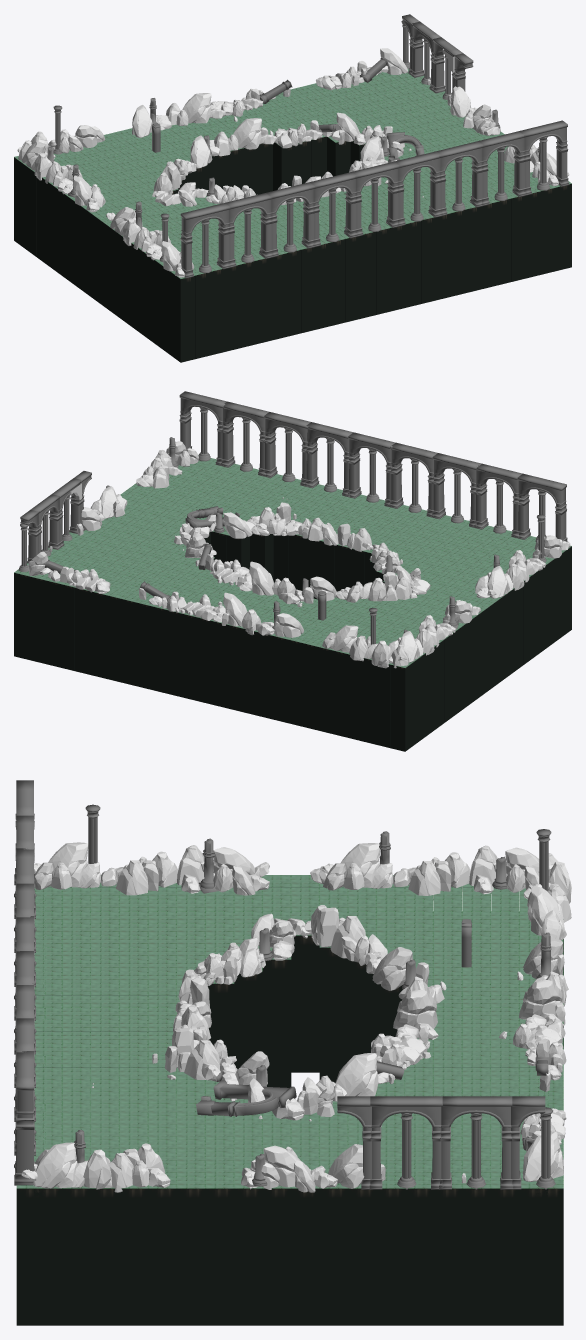
The model's file is Map_02.fbx.
The picture shows the model from 3 angles, top to bottom: view 1: azimuth 30°, elevation 25°; view 2: azimuth 150°, elevation 25°; view 3: azimuth 270°, elevation 25°; orthographic projection. The views are drawn at different scales.
Visible parts, largest first — view 1: Sea_Temple_Map_02, Object1758.015, Sea_Temple_Map_02_1; view 2: Sea_Temple_Map_02, Object1758.015, Sea_Temple_Map_02_1; view 3: Sea_Temple_Map_02, Sea_Temple_Map_02_1, Object1758.015.
Part boxes in pixels (bbox=[...]): Sea_Temple_Map_02: bbox=[14, 69, 571, 362]; Object1758.015: bbox=[47, 14, 569, 278]; Sea_Temple_Map_02_1: bbox=[17, 48, 569, 277]; Sea_Temple_Map_02: bbox=[14, 455, 571, 751]; Object1758.015: bbox=[18, 391, 567, 644]; Sea_Temple_Map_02_1: bbox=[28, 441, 570, 668]; Sea_Temple_Map_02: bbox=[16, 875, 563, 1325]; Sea_Temple_Map_02_1: bbox=[21, 842, 571, 1192]; Object1758.015: bbox=[14, 780, 555, 1189].
Size of the model in its own units: 10487 by 3639 by 7793.
